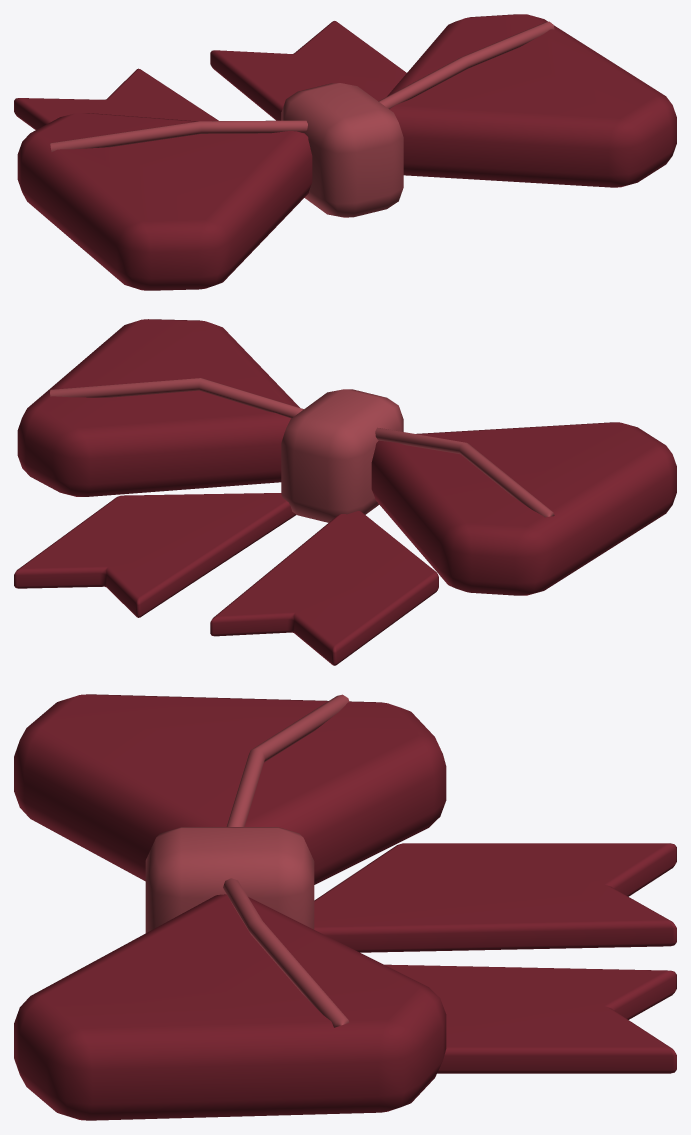
The model's file is ribbon_tie.glb.
3 renders of one model, top to bottom at view 1: azimuth 30°, elevation 25°; view 2: azimuth 150°, elevation 25°; view 3: azimuth 270°, elevation 25°, orthographic. The views are drawn at different scales.
Parts seen in each view (by area): view 1: SM_ribbon_tie; view 2: SM_ribbon_tie; view 3: SM_ribbon_tie.
Part boxes in pixels (x1=…): SM_ribbon_tie: x1=14, y1=14, x2=676, y2=290; SM_ribbon_tie: x1=14, y1=319, x2=676, y2=665; SM_ribbon_tie: x1=14, y1=694, x2=676, y2=1120.
Bounding box in the file's own units: 0.3782 × 0.0675 × 0.2948.
